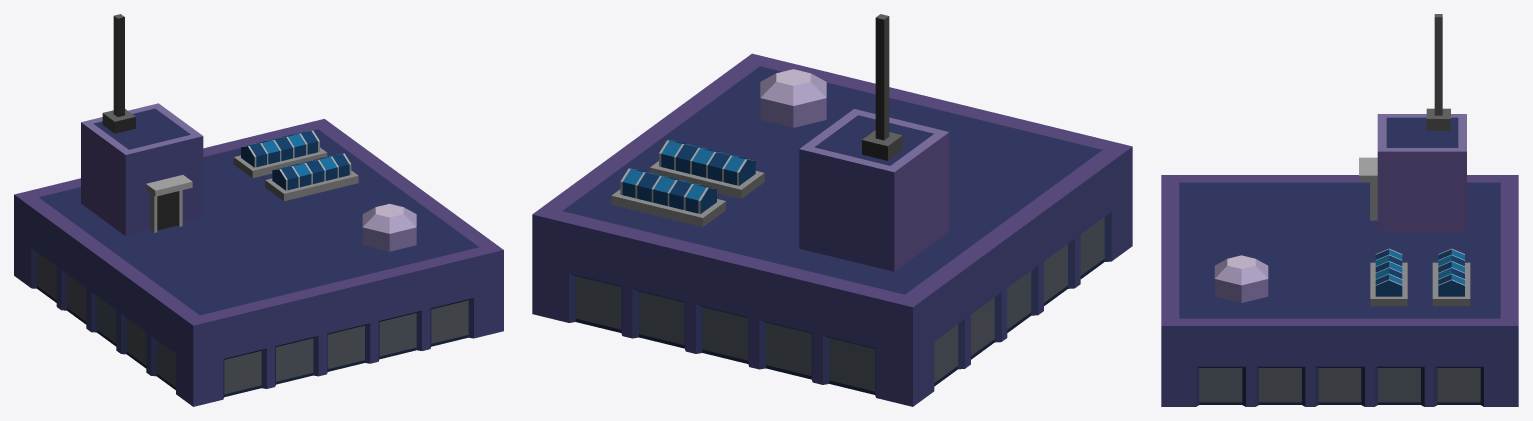
Rendered from TB_CITY_Skysc_M_Top_Purple.FBX.
The picture shows the model from 3 angles, left to right: view 1: azimuth 30°, elevation 25°; view 2: azimuth 150°, elevation 25°; view 3: azimuth 270°, elevation 25°; orthographic projection. The views are drawn at different scales.
Parts seen in each view (by area): view 1: TB_CITY_Skysc_M_Top_Purple; view 2: TB_CITY_Skysc_M_Top_Purple; view 3: TB_CITY_Skysc_M_Top_Purple.
Boxes of the visible parts, left/top/right/bottom form: TB_CITY_Skysc_M_Top_Purple: left=14, top=14, right=503, bottom=406; TB_CITY_Skysc_M_Top_Purple: left=532, top=14, right=1132, bottom=406; TB_CITY_Skysc_M_Top_Purple: left=1161, top=14, right=1518, bottom=406.
Bounding box in the file's own units: 20 × 16.8 × 20.
